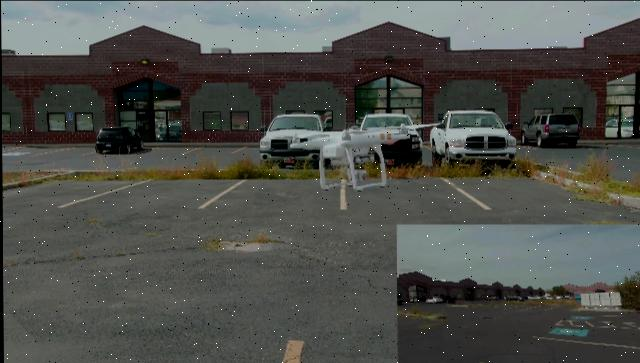drone: (285, 124, 417, 192)
